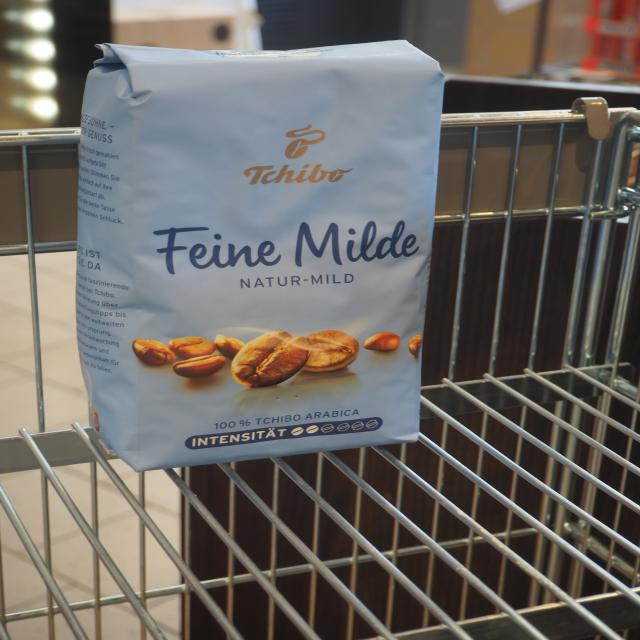FM Bohne: (43, 37, 466, 483)
